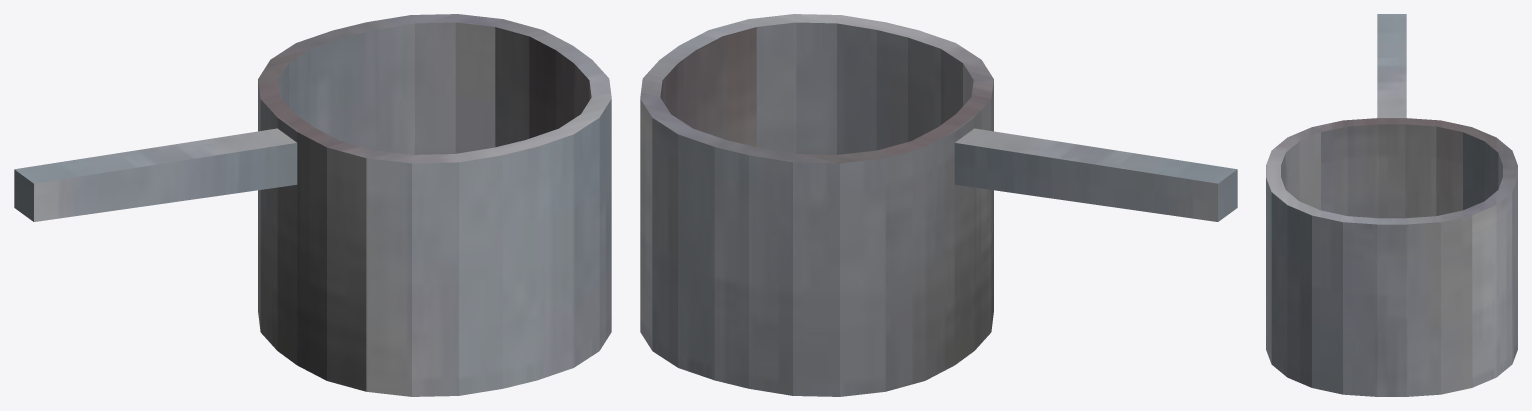
File: pot.fbx
3 views of the same model, side by side, from view 1: azimuth 30°, elevation 25°; view 2: azimuth 150°, elevation 25°; view 3: azimuth 270°, elevation 25° (orthographic). The views are drawn at different scales.
Parts seen in each view (by area): view 1: pot; view 2: pot; view 3: pot.
Part boxes in pixels (<box>): pot: <box>14,14,611,396</box>; pot: <box>640,14,1237,396</box>; pot: <box>1266,14,1517,396</box>.
Size of the model in its own units: 314 by 132 by 166.
